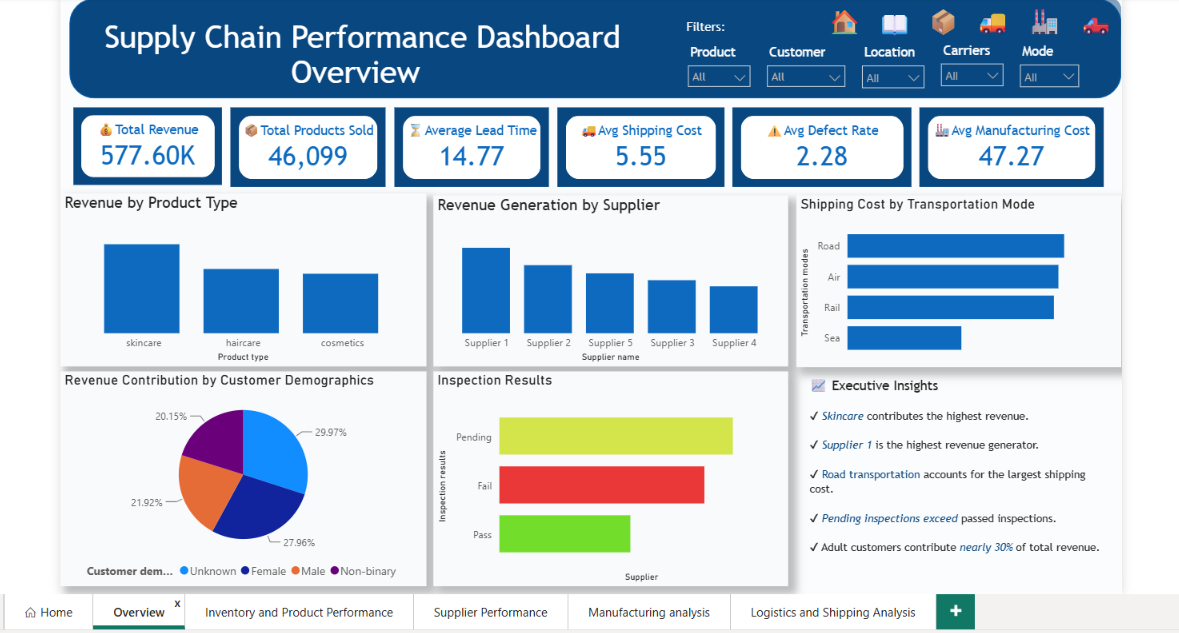

The page's visual inventory and layout, read from the dashboard file:
{"tool":"powerbi","page":{"name":"Overview","canvas":[1280,720],"ordinal":1},"visuals":[{"type":"shape","box":[10.9,1.2,1269.2,120.6],"z":0},{"type":"slicer","fields":{"Values":["Sheet1.Product type"]},"box":[746.8,51.9,95.3,60.3],"z":0,"group":"g1"},{"type":"actionButton","box":[914.5,0,62.7,50.7],"z":1000},{"type":"slicer","fields":{"Values":["Sheet1.Customer demographics"]},"box":[842.1,51.9,114.6,62.7],"z":1000,"group":"g1"},{"type":"textbox","box":[48.3,20.5,678,107.4],"z":2000},{"type":"slicer","fields":{"Values":["Sheet1.Transportation modes"]},"box":[1147.3,50.7,91.7,61.5],"z":2000,"group":"g1"},{"type":"actionButton","title":"Overview Page","box":[977.2,0.1,57.9,50.7],"z":3000},{"type":"slicer","fields":{"Values":["Sheet1.Shipping carriers"]},"box":[1052,49.5,95.3,67.6],"z":3000,"group":"g1"},{"type":"textbox","box":[639.4,21.7,278.7,42.2],"z":4000},{"type":"slicer","fields":{"Values":["Sheet1.Location"]},"box":[956.7,51.9,95.3,60.3],"z":4000,"group":"g1"},{"type":"actionButton","title":"Inventory and Product","box":[1035.1,0.1,60.3,54.3],"z":5000},{"type":"cardVisual","fields":{"Data":["Sheet1.Total Revenue"]},"box":[10.9,127.9,189.4,103.8],"z":6000},{"type":"actionButton","title":"Supplier Performance","box":[1094.2,0.1,61.5,54.3],"z":7000},{"type":"cardVisual","fields":{"Data":["Sheet1.Products Sold"]},"box":[200.3,127.9,197.9,106.2],"z":8000},{"type":"actionButton","title":"Manufacturing Analysis","box":[1155.7,0.1,63.9,53.1],"z":9000},{"type":"cardVisual","fields":{"Data":["Sheet1.Average Shipping Cost"]},"box":[594.8,127.9,211.1,106.2],"z":10000},{"type":"actionButton","title":"Logistics and Shipping","box":[1219.7,0.1,60.3,57.9],"z":11000},{"type":"cardVisual","fields":{"Data":["Sheet1.Average Defect Rate"]},"box":[805.9,127.9,226.8,106.2],"z":12000},{"type":"cardVisual","fields":{"Data":["Sheet1.Average Manufacturing Cost"]},"box":[1031.5,127.9,232.8,106.2],"z":13000},{"type":"cardVisual","fields":{"Data":["Sheet1.Average Lead Time"]},"box":[398.1,127.9,196.6,106.2],"z":14000},{"type":"columnChart","title":"Revenue by Product Type","fields":{"Category":["Sheet1.Product type"],"Y":["Sum(Sheet1.Revenue generated)"]},"box":[0,236.5,441.6,208.7],"z":15000},{"type":"columnChart","title":"Revenue Generation by Supplier","fields":{"Y":["Sum(Sheet1.Revenue generated)"],"Category":["Sheet1.Supplier name"]},"box":[450,238.9,428.3,206.3],"z":16000},{"type":"pieChart","title":"Revenue Contribution by Customer Demographics","fields":{"Category":["Sheet1.Customer demographics"],"Y":["Sheet1.Total Revenue"]},"box":[0,451.2,441.6,259.4],"z":17000},{"type":"clusteredBarChart","title":"Shipping Cost by Transportation Mode","fields":{"Category":["Sheet1.Transportation modes"],"Y":["Sum(Sheet1.Shipping costs)"]},"box":[887.9,238.9,392.1,207.5],"z":18000},{"type":"clusteredBarChart","title":"Inspection Results","fields":{"Category":["Sheet1.Inspection results"],"Y":["CountNonNull(Sheet1.Supplier name)"]},"box":[450,451.2,428.3,259.4],"z":19000},{"type":"group","id":"g1","title":"Group 1","box":[746.8,49.5,492.2,67.6],"z":20000},{"type":"textbox","box":[898.8,451.2,365.6,259.4],"z":21000}]}

Visuals, with their boxes on the page's 1280x720 design canvas (x1, y1, x2, y2). These are canvas units, not pixel positions in the 1179x633 screenshot, which may show the page scaled, cropped or inside an application window:
shape: l=11, t=1, r=1280, b=122
slicer - Sheet1.Product type: l=747, t=52, r=842, b=112
actionButton: l=914, t=0, r=977, b=51
slicer - Sheet1.Customer demographics: l=842, t=52, r=957, b=115
textbox: l=48, t=20, r=726, b=128
slicer - Sheet1.Transportation modes: l=1147, t=51, r=1239, b=112
"Overview Page" actionButton: l=977, t=0, r=1035, b=51
slicer - Sheet1.Shipping carriers: l=1052, t=50, r=1147, b=117
textbox: l=639, t=22, r=918, b=64
slicer - Sheet1.Location: l=957, t=52, r=1052, b=112
"Inventory and Product" actionButton: l=1035, t=0, r=1095, b=54
cardVisual - Sheet1.Total Revenue: l=11, t=128, r=200, b=232
"Supplier Performance" actionButton: l=1094, t=0, r=1156, b=54
cardVisual - Sheet1.Products Sold: l=200, t=128, r=398, b=234
"Manufacturing Analysis" actionButton: l=1156, t=0, r=1220, b=53
cardVisual - Sheet1.Average Shipping Cost: l=595, t=128, r=806, b=234
"Logistics and Shipping" actionButton: l=1220, t=0, r=1280, b=58
cardVisual - Sheet1.Average Defect Rate: l=806, t=128, r=1033, b=234
cardVisual - Sheet1.Average Manufacturing Cost: l=1032, t=128, r=1264, b=234
cardVisual - Sheet1.Average Lead Time: l=398, t=128, r=595, b=234
"Revenue by Product Type" columnChart: l=0, t=236, r=442, b=445
"Revenue Generation by Supplier" columnChart: l=450, t=239, r=878, b=445
"Revenue Contribution by Customer Demographics" pieChart: l=0, t=451, r=442, b=711
"Shipping Cost by Transportation Mode" clusteredBarChart: l=888, t=239, r=1280, b=446
"Inspection Results" clusteredBarChart: l=450, t=451, r=878, b=711
"Group 1" group: l=747, t=50, r=1239, b=117
textbox: l=899, t=451, r=1264, b=711
